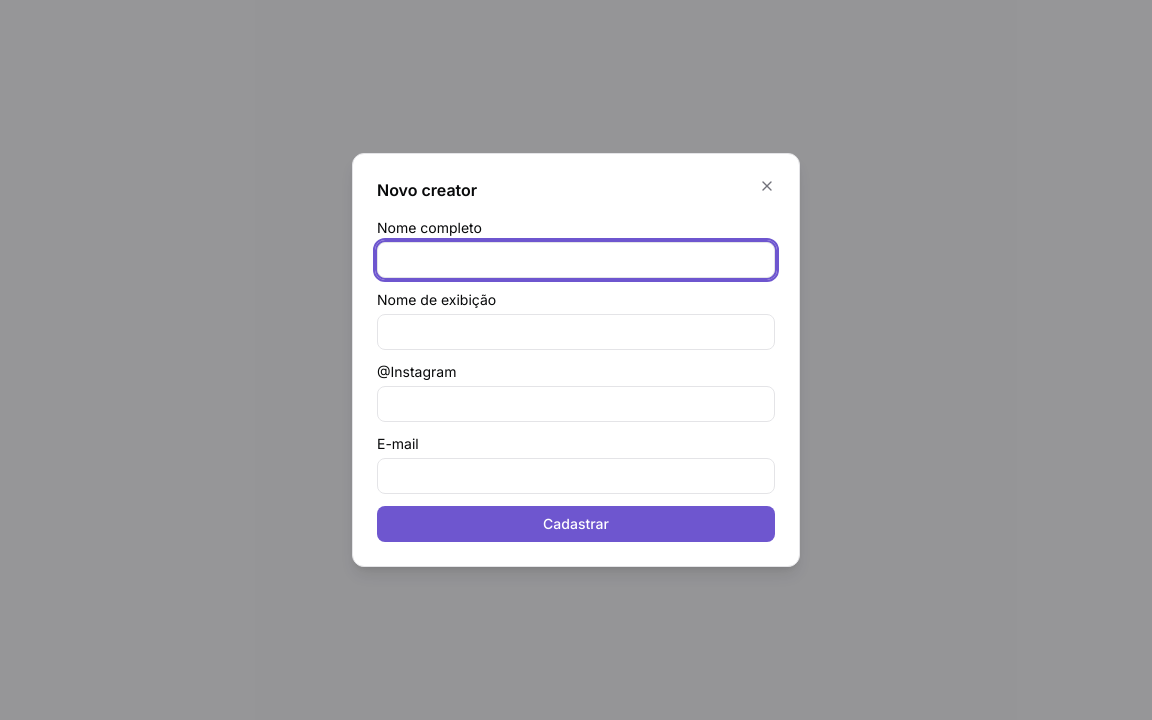
Test: CreatorFormDialog › shows a form-level error for a 403 with no errors body, leaving E-mail untouched
Type "Thais" into the field labelled "Nome completo" at (576, 260), box [377,242,775,278]
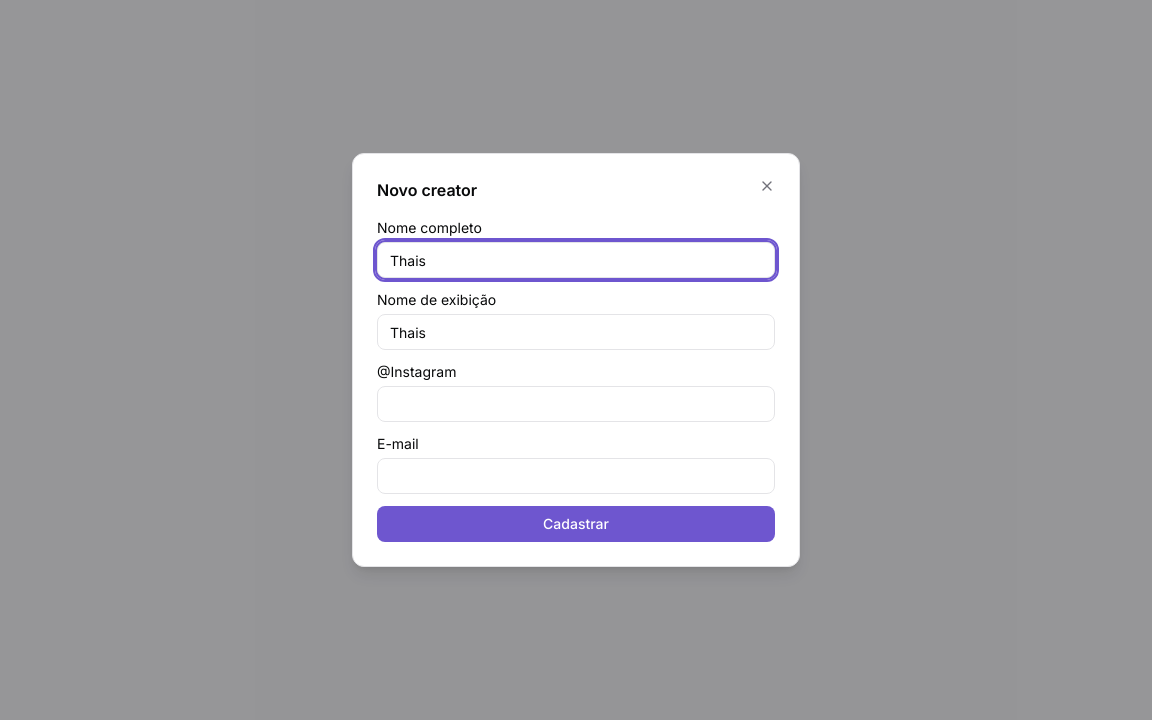
Type "thais@x.com" into the field labelled "E-mail" at (576, 476), box [377,458,775,494]
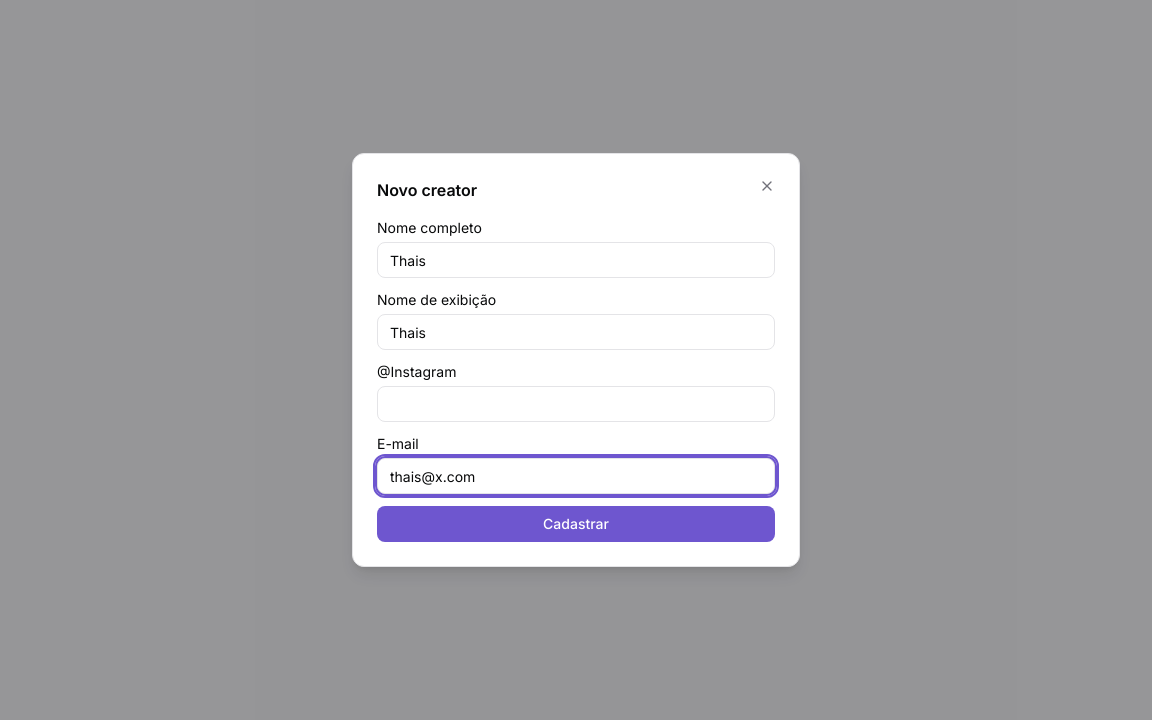
Click the button "Cadastrar" at (576, 524), box [377,506,775,542]
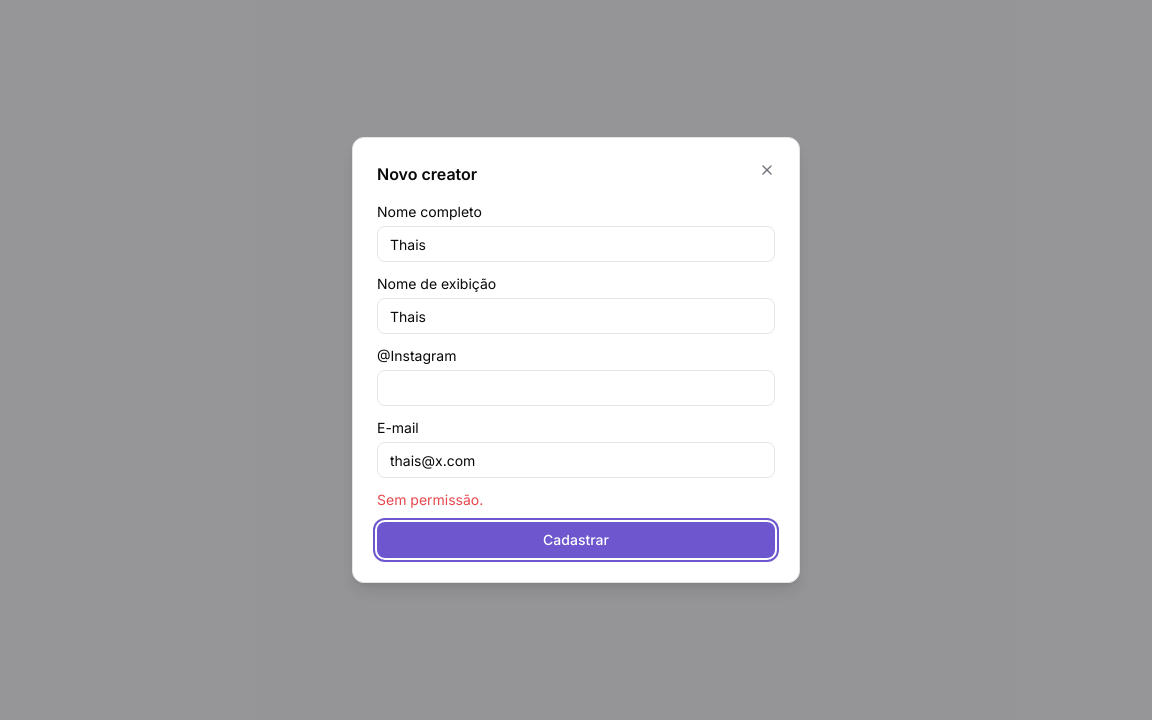
Check: the message reads "Sem permissão.", box [377,491,483,508]
